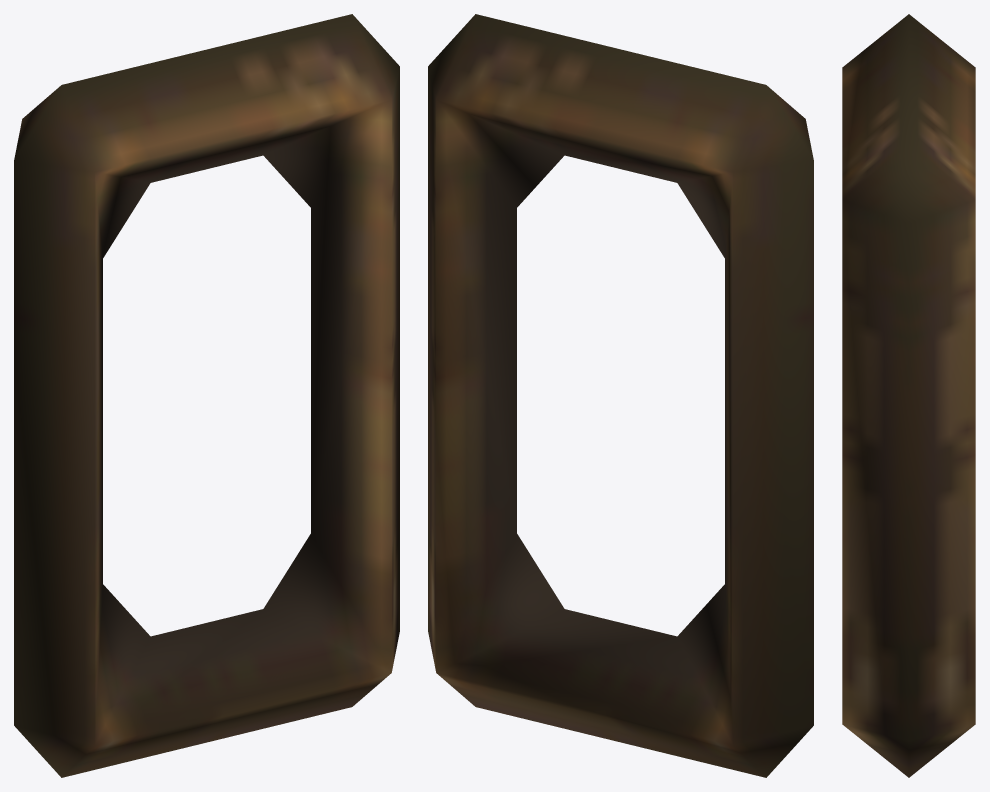
Rendered from Chain.gltf.
The picture shows the model from 3 angles, left to right: view 1: azimuth 30°, elevation 25°; view 2: azimuth 150°, elevation 25°; view 3: azimuth 270°, elevation 25°; orthographic projection. The views are drawn at different scales.
Visible parts, largest first — view 1: Chain; view 2: Chain; view 3: Chain.
Part boxes in pixels (x1,y1,x2,y2): Chain: (14,14,399,777); Chain: (428,14,813,777); Chain: (842,14,975,777).
Size of the model in its own units: 0.1481 by 0.2542 by 0.0483.
1 material, 1 textured.
